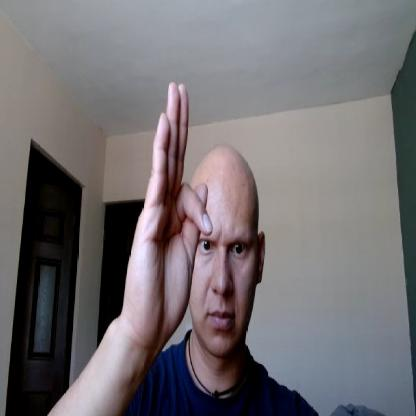F: (125, 83, 214, 339)
